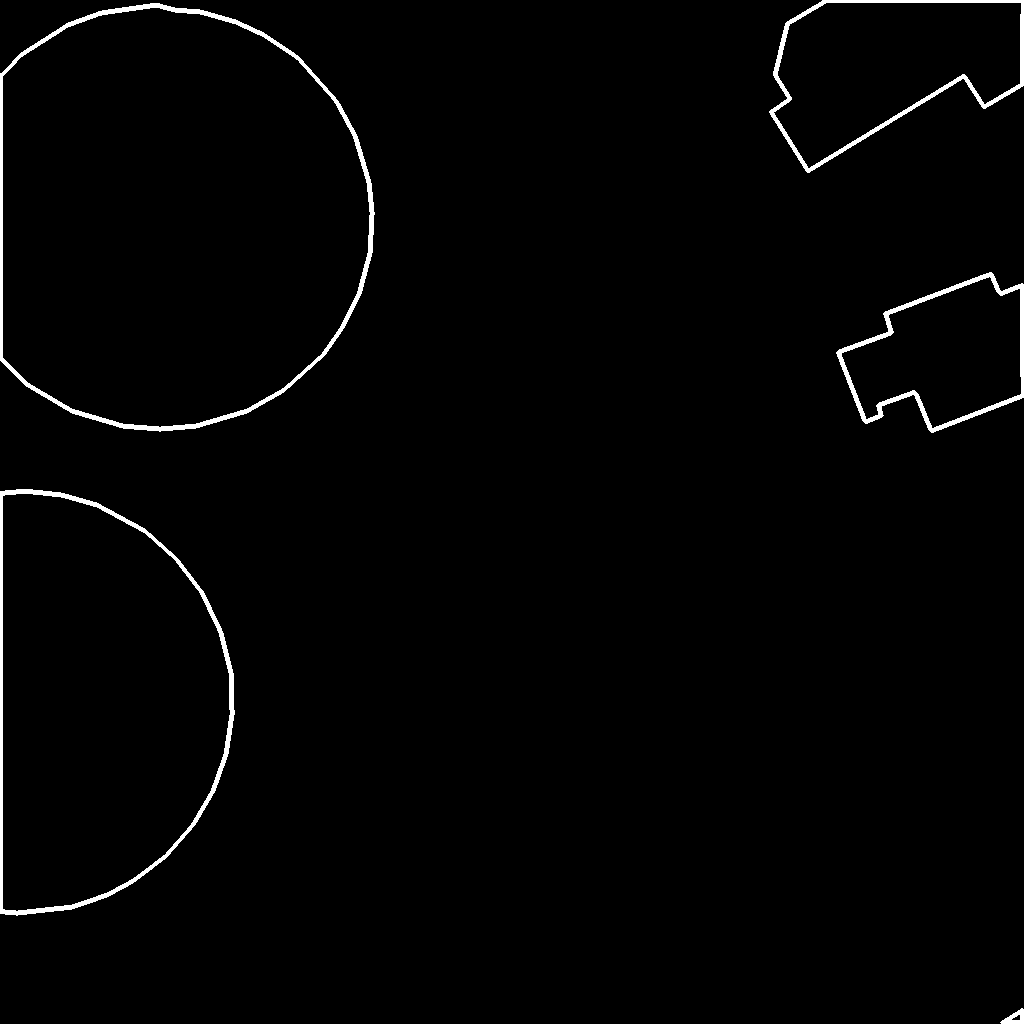building: (0, 5, 373, 430), (0, 491, 233, 914), (771, 0, 1024, 172), (838, 274, 1024, 432), (1002, 1010, 1024, 1024)
